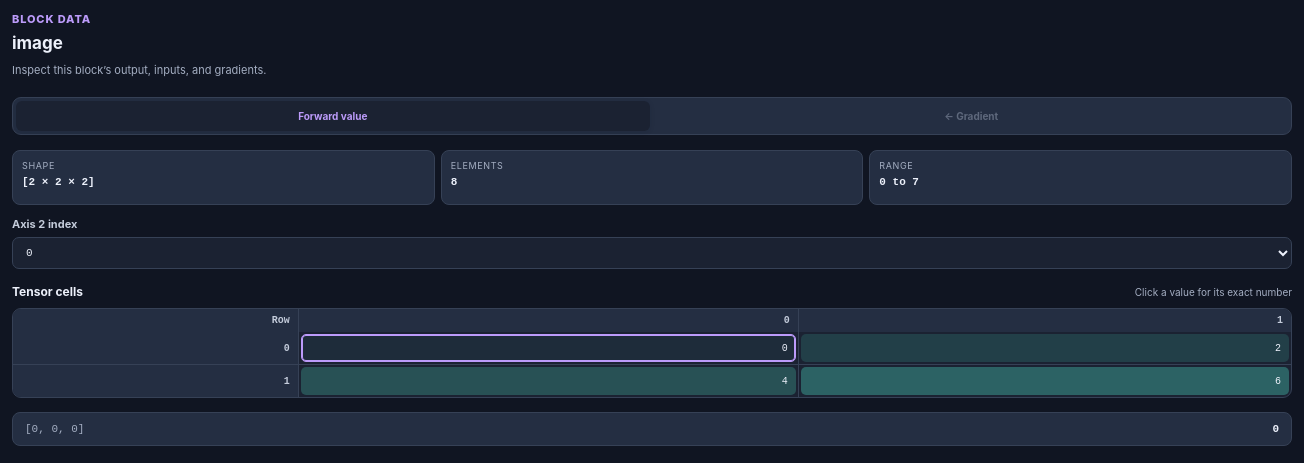
Test: DataInspector › slices a higher-rank tensor while retaining exact coordinates
Select "1" in the dropdown labelled "Axis 2 index" at coordinates (652, 253), box [12,237,1292,269]
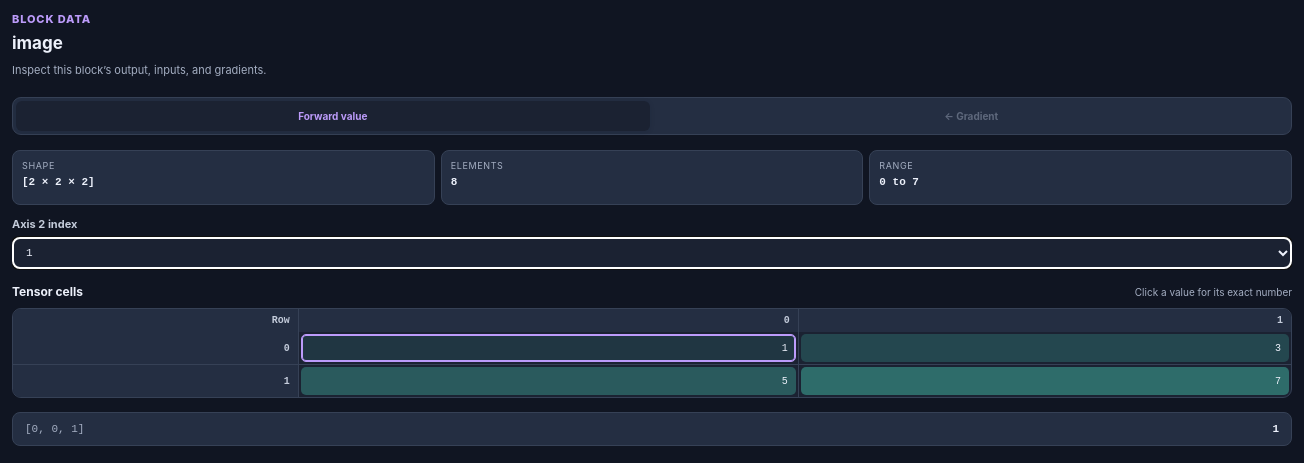
Click the button named "Row 1, column 1: 7" at coordinates (1278, 381), box [801,367,1289,395]
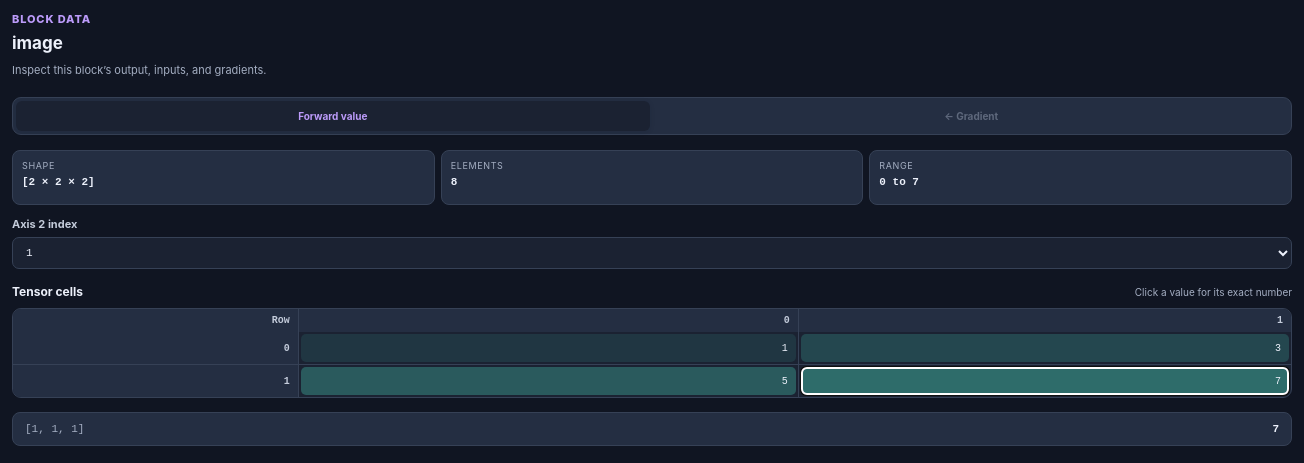
Expected: the text "[1, 1, 1]" is shown, [25,423,84,435]
Expected: the text "7" is shown, [1272,423,1279,435]
